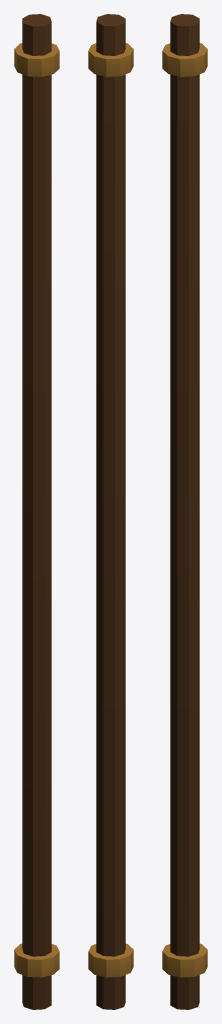
The model's file is staff.glb.
3 views of the same model, side by side, from view 1: azimuth 30°, elevation 25°; view 2: azimuth 150°, elevation 25°; view 3: azimuth 330°, elevation 25° (orthographic).
Visible parts, largest first — view 1: staff, staff_ring_0.22, staff_ring_2.5; view 2: staff, staff_ring_0.22, staff_ring_2.5; view 3: staff, staff_ring_0.22, staff_ring_2.5.
Boxes of the visible parts, x1,y1,x2,y2 form: staff: (22,14,51,1009); staff_ring_0.22: (14,943,59,977); staff_ring_2.5: (14,43,59,76); staff: (96,14,125,1009); staff_ring_0.22: (88,943,133,977); staff_ring_2.5: (88,43,133,76); staff: (170,14,199,1009); staff_ring_0.22: (162,943,207,977); staff_ring_2.5: (162,43,207,76).
Size of the model in its own units: 0.0731 by 1.75 by 0.0695.
Materials: 1 (1 with a texture image).
